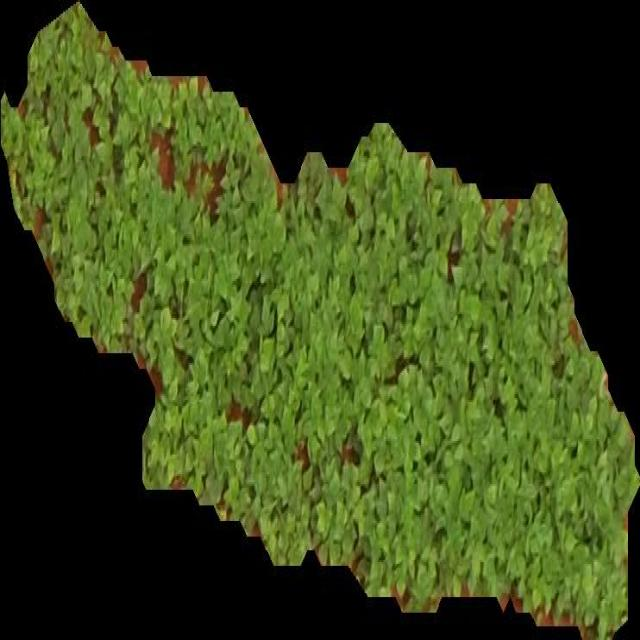Bean: (1, 0, 640, 640)
